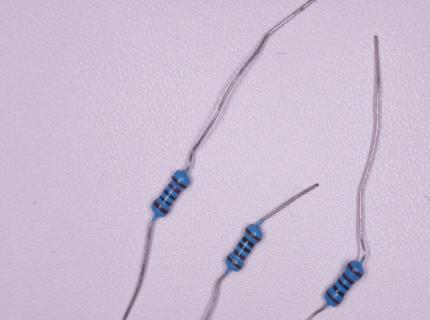Black band: (332, 283, 345, 298), (241, 235, 255, 248), (238, 241, 251, 254), (338, 278, 350, 291)
Brown band: (347, 262, 363, 278), (226, 256, 243, 270), (326, 290, 341, 305), (245, 228, 261, 242), (342, 272, 354, 285), (233, 248, 246, 260)
